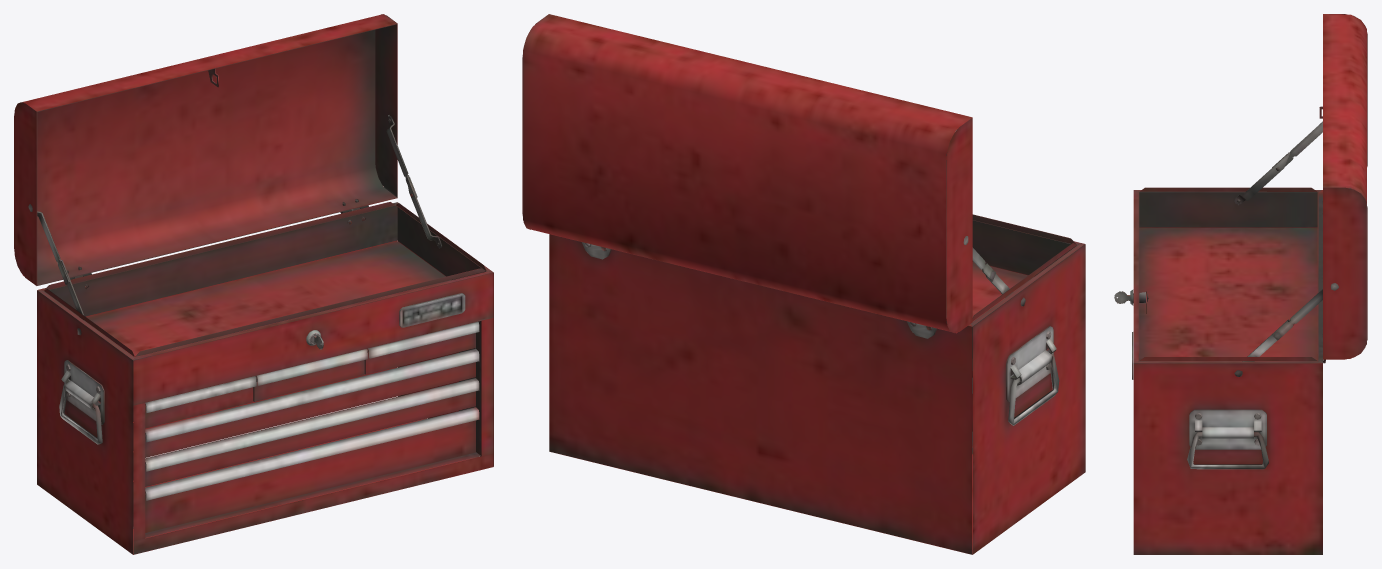
File: metal_tool_chest.glb
3 views of the same model, side by side, from view 1: azimuth 30°, elevation 25°; view 2: azimuth 150°, elevation 25°; view 3: azimuth 270°, elevation 25° (orthographic). The views are drawn at different scales.
Parts seen in each view (by area): view 1: metal_tool_chest_chest; view 2: metal_tool_chest_chest; view 3: metal_tool_chest_chest.
Boxes of the visible parts, x1,y1,x2,y2 form: metal_tool_chest_chest: [14, 14, 493, 554]; metal_tool_chest_chest: [522, 14, 1085, 554]; metal_tool_chest_chest: [1114, 14, 1367, 554].
Size of the model in its own units: 0.6854 by 0.6518 by 0.4073.
1 material, 1 textured.
